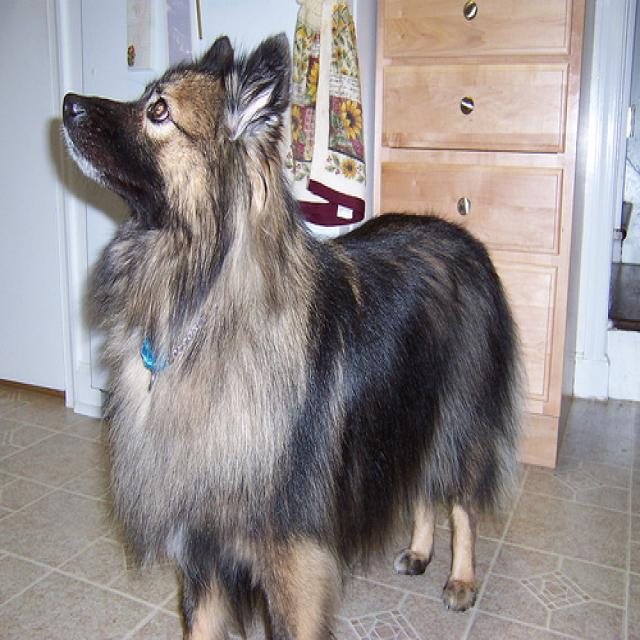dog-keeshond: (45, 17, 521, 637)
